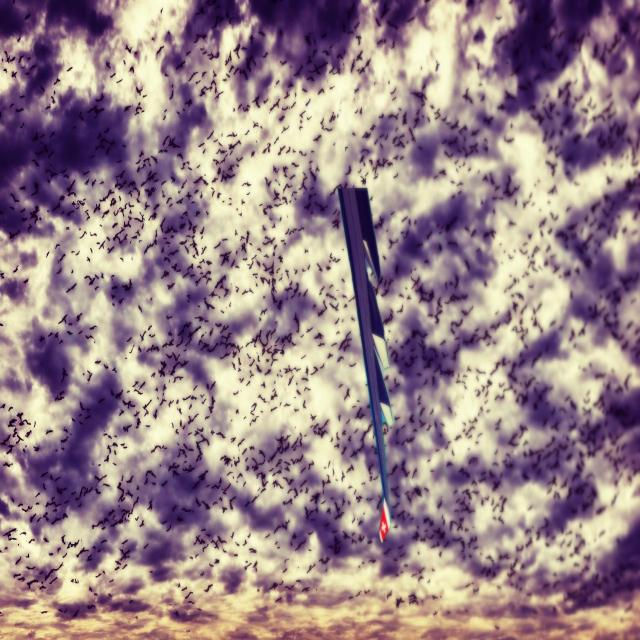airplane: (336, 183, 395, 543)
